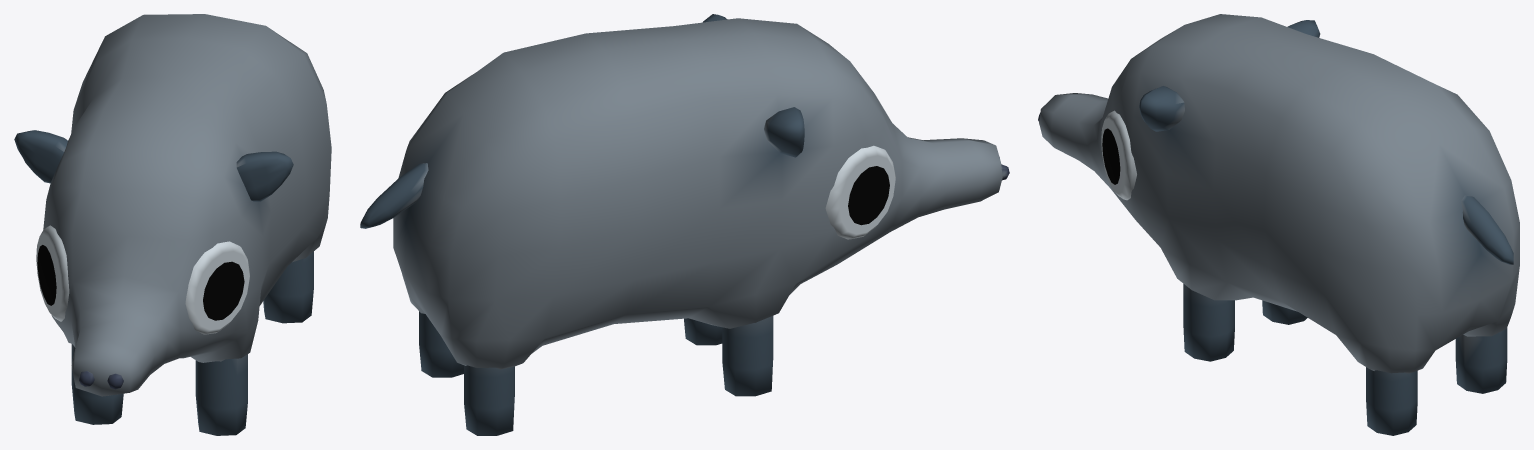
The model's file is Javelina.glb.
The picture shows the model from 3 angles, left to right: view 1: azimuth 30°, elevation 25°; view 2: azimuth 150°, elevation 25°; view 3: azimuth 270°, elevation 25°; orthographic projection. The views are drawn at different scales.
Parts seen in each view (by area): view 1: 79; view 2: 79; view 3: 79.
Part boxes in pixels (<box>): 79: <box>14,14,331,435</box>; 79: <box>360,14,1009,435</box>; 79: <box>1038,14,1519,435</box>.
Size of the model in its own units: 0.6456 by 0.4846 by 0.6948.
